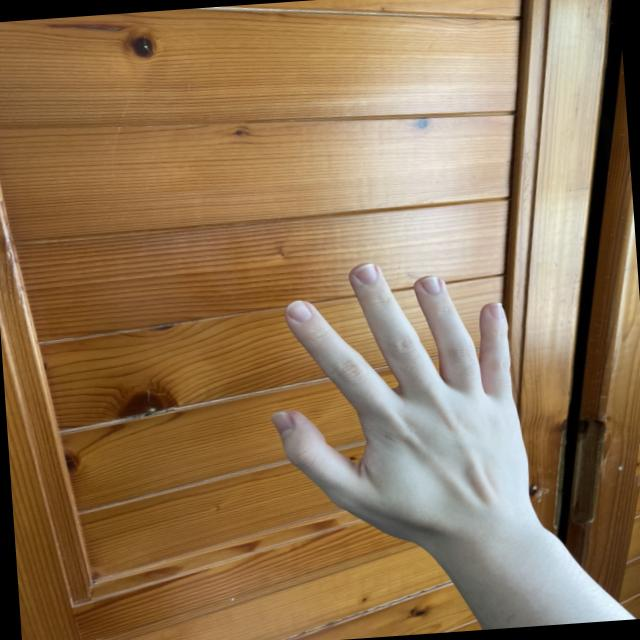Nail: (286, 300, 312, 322), (271, 412, 294, 435), (353, 263, 377, 283), (420, 276, 440, 294), (488, 302, 505, 319)
